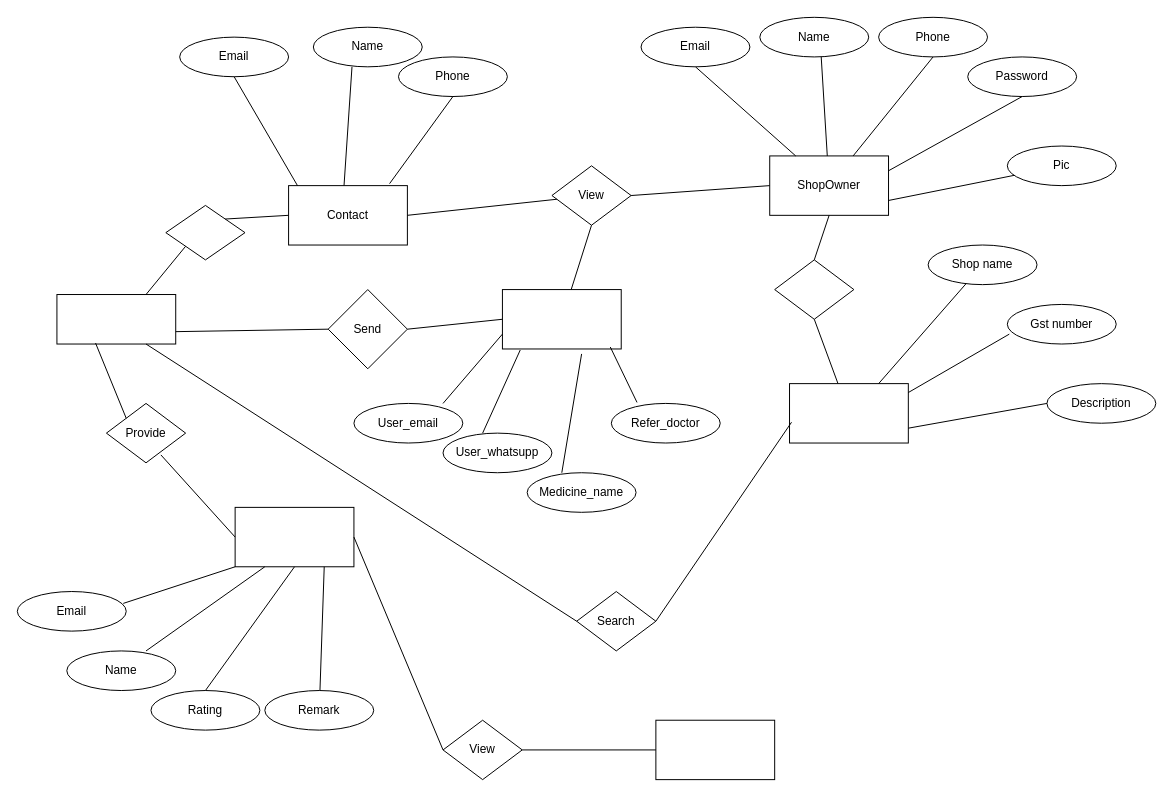
Image size: 1173x797. Some labels were removed from this diagram. The box of each missing label's shape, as (x1, y1, x2, y2) in pixels:
Add: (774, 259, 854, 319)
Admin: (655, 719, 775, 780)
Do: (165, 204, 245, 260)
Feedback: (234, 506, 354, 567)
Medicine request: (501, 289, 621, 349)
Shopdetail: (789, 383, 908, 443)
User: (56, 294, 176, 344)
